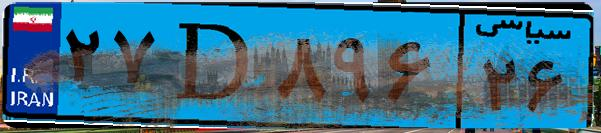2: (57, 26, 110, 100), (475, 38, 525, 113)
6: (385, 28, 445, 110), (525, 38, 570, 115)
7: (110, 28, 158, 98)
8: (270, 28, 330, 110)
9: (330, 28, 385, 110)
D: (158, 12, 270, 120)
